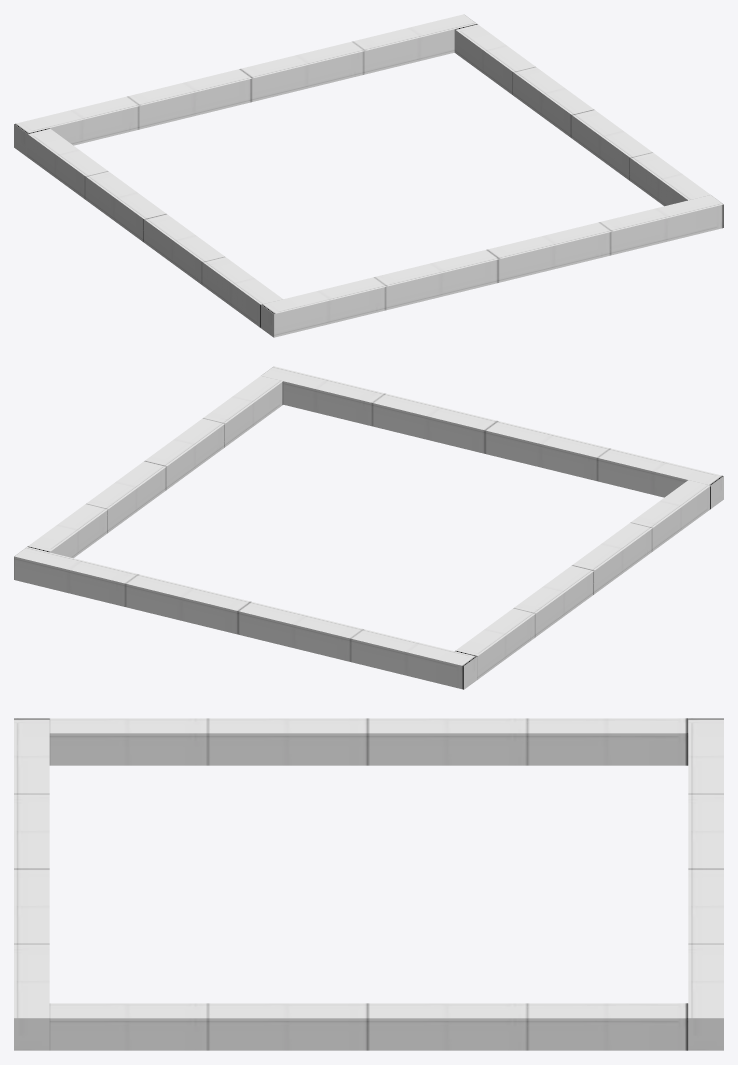
File: floor.frame.glb
The picture shows the model from 3 angles, top to bottom: view 1: azimuth 30°, elevation 25°; view 2: azimuth 150°, elevation 25°; view 3: azimuth 270°, elevation 25°; orthographic projection. The views are drawn at different scales.
Parts seen in each view (by area): view 1: floor.frame; view 2: floor.frame; view 3: floor.frame.
Part boxes in pixels (x1,y1,x2,y2): floor.frame: (14,14,723,337); floor.frame: (14,366,723,689); floor.frame: (14,718,723,1050).
Size of the model in its own units: 3 by 0.1496 by 3.
1 material, 1 textured.
